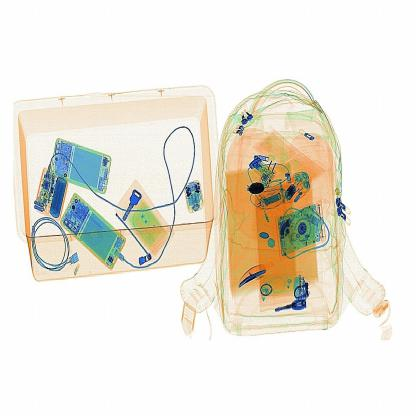pliers: (237, 258, 274, 296)
